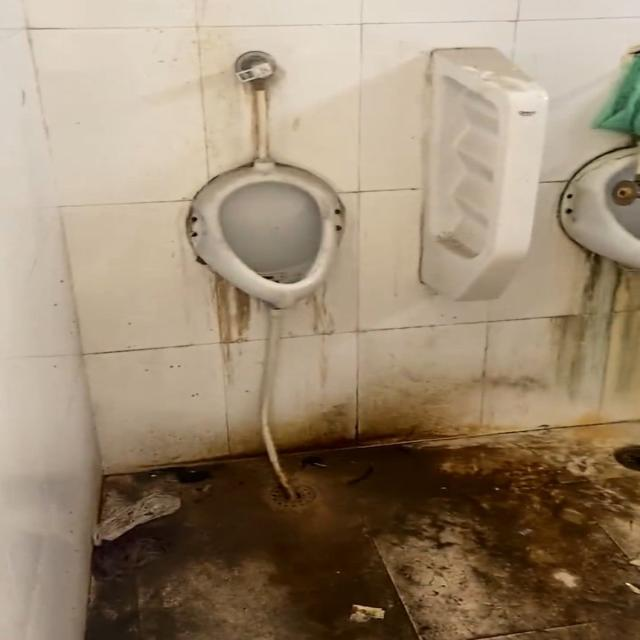dirty_floor: (11, 0, 639, 474), (85, 419, 638, 637), (371, 436, 636, 636)
